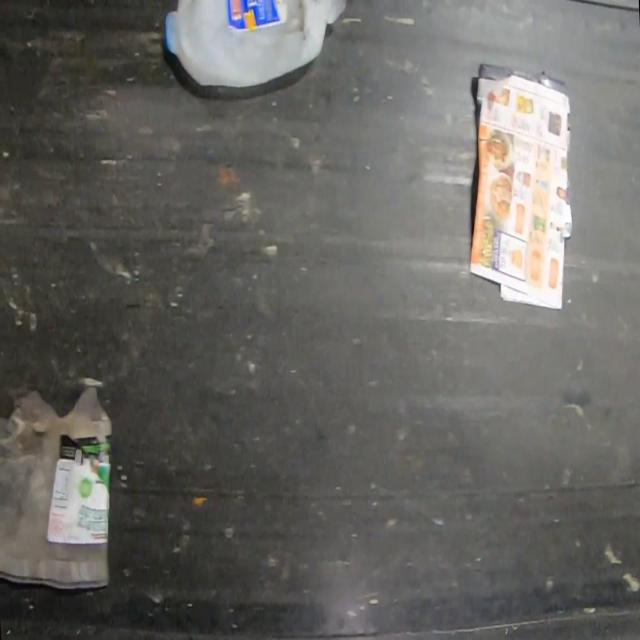rigid_plastic: (0, 386, 112, 590), (165, 0, 347, 89)
